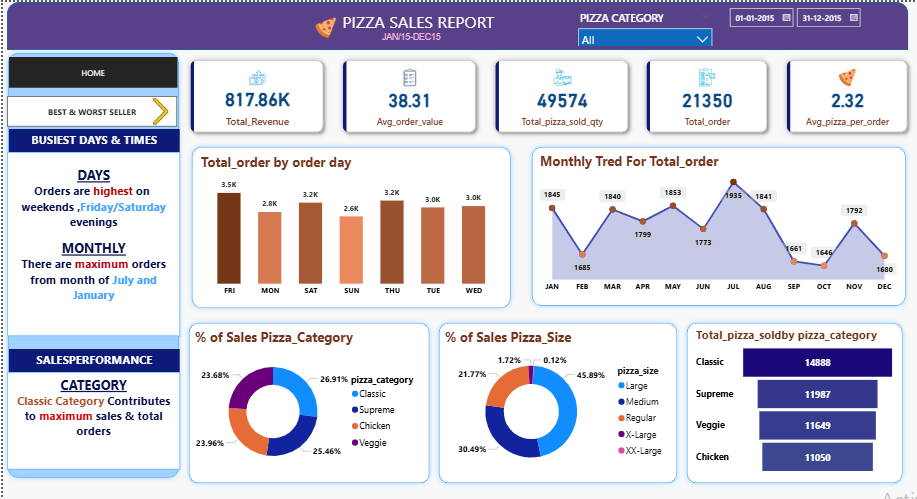

What the dashboard file says about the page in this screenshot:
{"tool":"powerbi","page":{"name":"HOME","canvas":[1500,820],"ordinal":0},"visuals":[{"type":"cardVisual","fields":{"Data":["pizza_sales.Total_Revenue","pizza_sales.Avg_order_value","pizza_sales.Total_pizza_sold_qty"]},"box":[290.4,78.1,753,152.2],"z":0},{"type":"cardVisual","fields":{"Data":["pizza_sales.Total_order","pizza_sales.Avg_pizza_per_order"]},"box":[1037.4,78.1,462.6,152.2],"z":1000},{"type":"shape","box":[6.7,0,1478.2,78.8],"z":2000},{"type":"textbox","box":[538.7,8,286.7,52],"z":3000},{"type":"textbox","box":[616,43,115,34],"z":4000},{"type":"image","box":[493.3,20,70.7,45.3],"z":5000},{"type":"shape","box":[302.4,230.3,538.7,280.4],"z":6000},{"type":"columnChart","fields":{"Category":["pizza_sales.order day"],"Y":["pizza_sales.Total_order"]},"box":[320.4,248.3,504.7,244.3],"z":7000},{"type":"shape","box":[859.1,230.3,628.8,276.4],"z":8000},{"type":"areaChart","title":"Monthly Tred For Total_order ","fields":{"Category":["pizza_sales.Order Month"],"Y":["pizza_sales.Total_order"]},"box":[875.2,246.3,594.8,238.3],"z":9000},{"type":"shape","box":[296.8,518.2,410.5,278.9],"z":10000},{"type":"shape","box":[0,76.1,296.4,713],"z":10500},{"type":"shape","box":[707.3,518.2,406.6,278.9],"z":11000},{"type":"shape","box":[1113.9,518.2,369.7,278.9],"z":12000},{"type":"donutChart","title":"% of Sales Pizza_Category","fields":{"Y":["pizza_sales.Total_Revenue"],"Category":["pizza_sales.pizza_category"]},"box":[310.6,534.6,383.8,246],"z":13000},{"type":"funnel","title":"Total_pizza_soldby pizza_category","fields":{"Y":["pizza_sales.Total_pizza_sold_qty"],"Category":["pizza_sales.pizza_category"]},"box":[1131.5,532.7,336.4,246.3],"z":15000},{"type":"donutChart","title":"% of Sales Pizza_Size","fields":{"Y":["pizza_sales.Total_Revenue"],"Category":["pizza_sales.pizza_size"]},"box":[720.6,534.6,378.8,246],"z":18000},{"type":"textbox","box":[10,208.3,280.4,38.1],"z":18500},{"type":"textbox","box":[6,246.3,284.4,302.4],"z":18501},{"type":"textbox","box":[10,568.8,280.4,38.1],"z":18502},{"type":"textbox","box":[6,606.8,284.4,160.2],"z":18503},{"type":"slicer","fields":{"Values":["pizza_sales.pizza_category"]},"box":[933.5,8.4,239.7,63.7],"z":18504},{"type":"slicer","fields":{"Values":["pizza_sales.order_date"]},"box":[1179.9,0,239.7,73.7],"z":18505},{"type":"pageNavigator","box":[10.1,90.5,276.5,50.3],"z":18506},{"type":"pageNavigator","box":[6.7,154.2,279.9,50.3],"z":18507},{"type":"image","box":[224.6,152.5,67,53.6],"z":18508}]}

Visuals, with their boxes in screenshot pixels (x1, y1, x2, y2), scaled from the page's 1500x820 canvas onto the 917x499 screenshot:
cardVisual - pizza_sales.Total_Revenue x pizza_sales.Avg_order_value: 178 48 638 140
cardVisual - pizza_sales.Total_order x pizza_sales.Avg_pizza_per_order: 634 48 916 140
shape: 4 0 908 48
textbox: 329 5 505 37
textbox: 377 26 447 47
image: 302 12 345 40
shape: 185 140 514 311
columnChart - pizza_sales.order day x pizza_sales.Total_order: 196 151 504 300
shape: 525 140 910 308
"Monthly Tred For Total_order " areaChart: 535 150 899 295
shape: 181 315 432 485
shape: 0 46 181 480
shape: 432 315 681 485
shape: 681 315 907 485
"% of Sales Pizza_Category" donutChart: 190 325 425 475
"Total_pizza_soldby pizza_category" funnel: 692 324 897 474
"% of Sales Pizza_Size" donutChart: 441 325 672 475
textbox: 6 127 178 150
textbox: 4 150 178 334
textbox: 6 346 178 369
textbox: 4 369 178 467
slicer - pizza_sales.pizza_category: 571 5 717 44
slicer - pizza_sales.order_date: 721 0 868 45
pageNavigator: 6 55 175 86
pageNavigator: 4 94 175 124
image: 137 93 178 125
